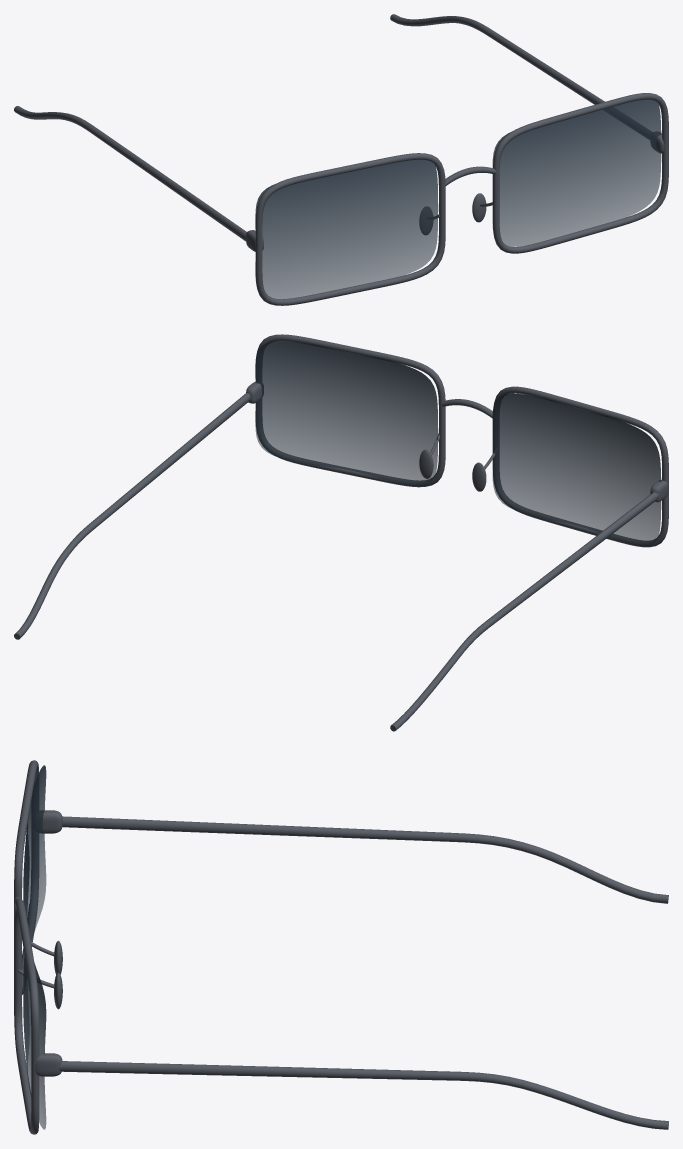
The model's file is TO-RCT-02.glb.
3 renders of one model, top to bottom at view 1: azimuth 30°, elevation 25°; view 2: azimuth 150°, elevation 25°; view 3: azimuth 270°, elevation 25°, orthographic. The views are drawn at different scales.
Visible parts, largest first — view 1: lenses, frame; view 2: lenses, frame; view 3: frame, lenses.
Part boxes in pixels (x1,y1,x2,y2): lenses: (255,99,661,298); frame: (14,14,668,305); lenses: (255,341,661,546); frame: (14,334,668,731); frame: (14,760,668,1134); lenses: (23,765,46,1129).
Bounding box in the file's own units: 0.1314 × 0.0389 × 0.1461.
